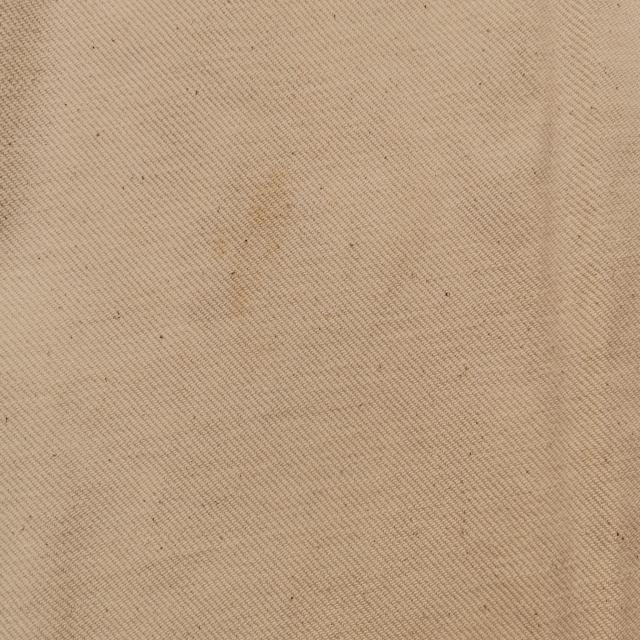taaaches: (224, 170, 293, 333)
